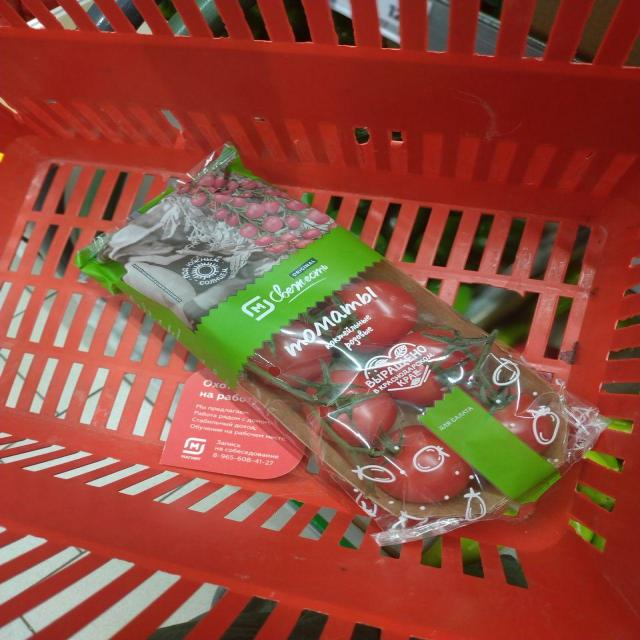Tomatoes: (375, 329, 480, 406), (372, 425, 473, 502), (460, 378, 562, 452), (303, 369, 398, 448), (312, 279, 418, 349), (248, 320, 332, 387)
